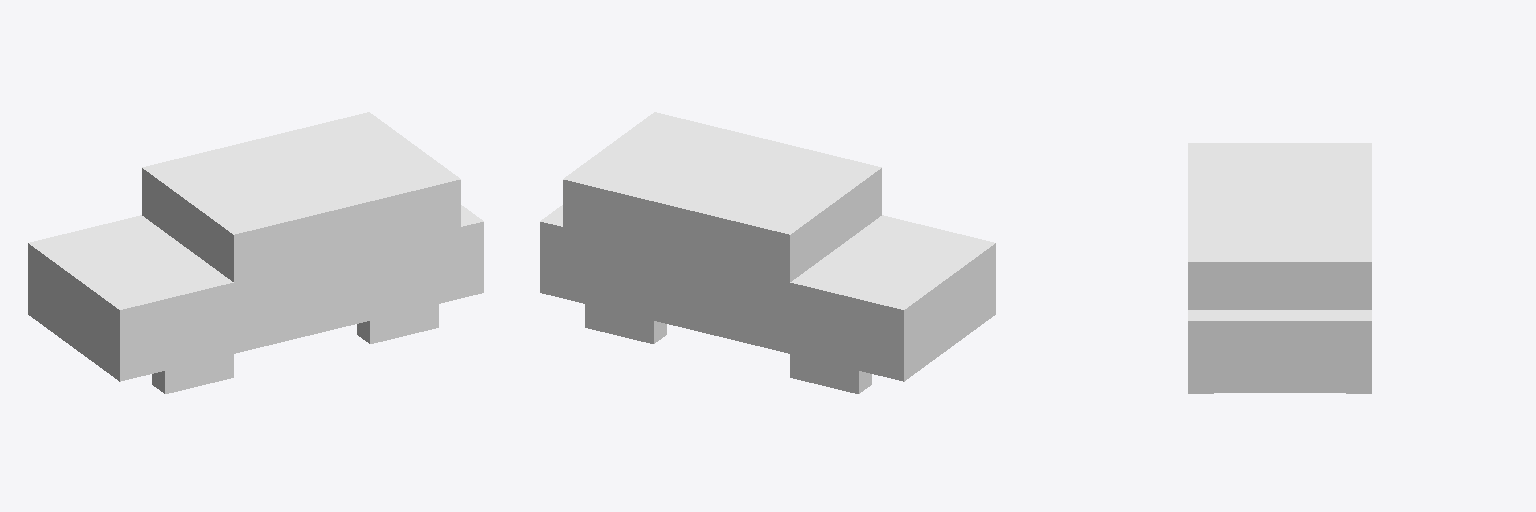
Rendered from cars-3.obj.
The picture shows the model from 3 angles: view 1: azimuth 30°, elevation 25°; view 2: azimuth 150°, elevation 25°; view 3: azimuth 270°, elevation 25°; orthographic projection.
Visible parts, largest first — view 1: object 1; view 2: object 1; view 3: object 1.
Part boxes in pixels (bbox=[...]): object 1: bbox=[28, 112, 483, 393]; object 1: bbox=[540, 112, 995, 393]; object 1: bbox=[1188, 143, 1371, 393].
Size of the model in its own units: 1.6 by 0.6 by 0.7.